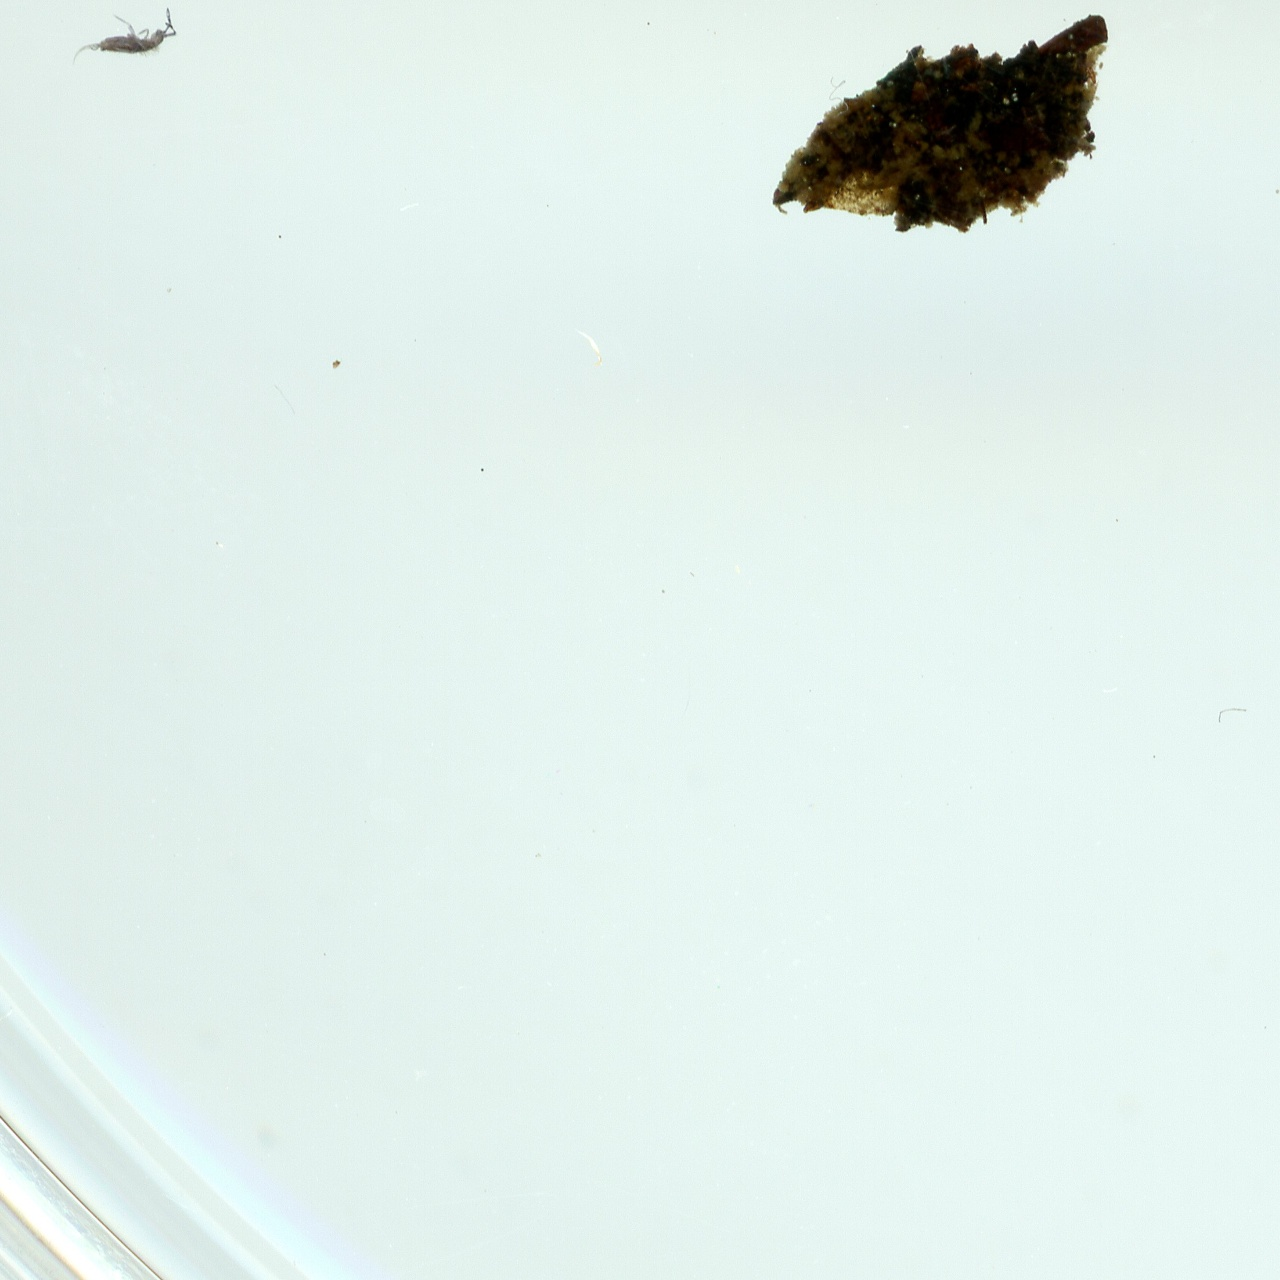arthropod: (66, 5, 181, 68)
